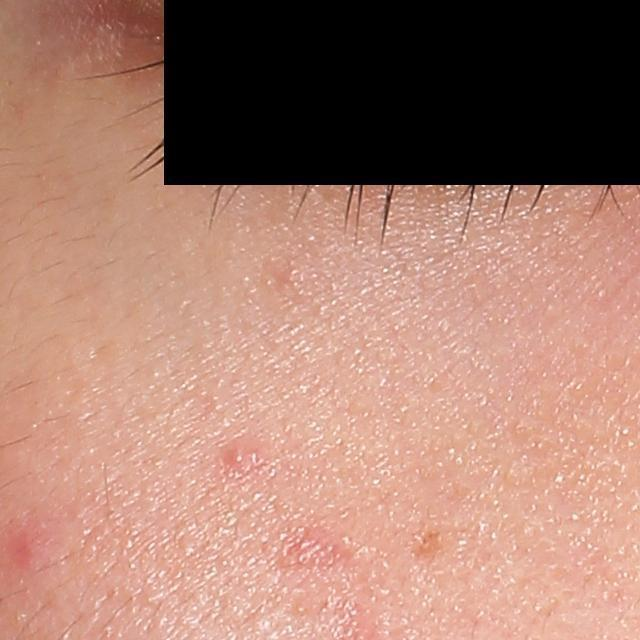papule: (220, 441, 256, 473)
